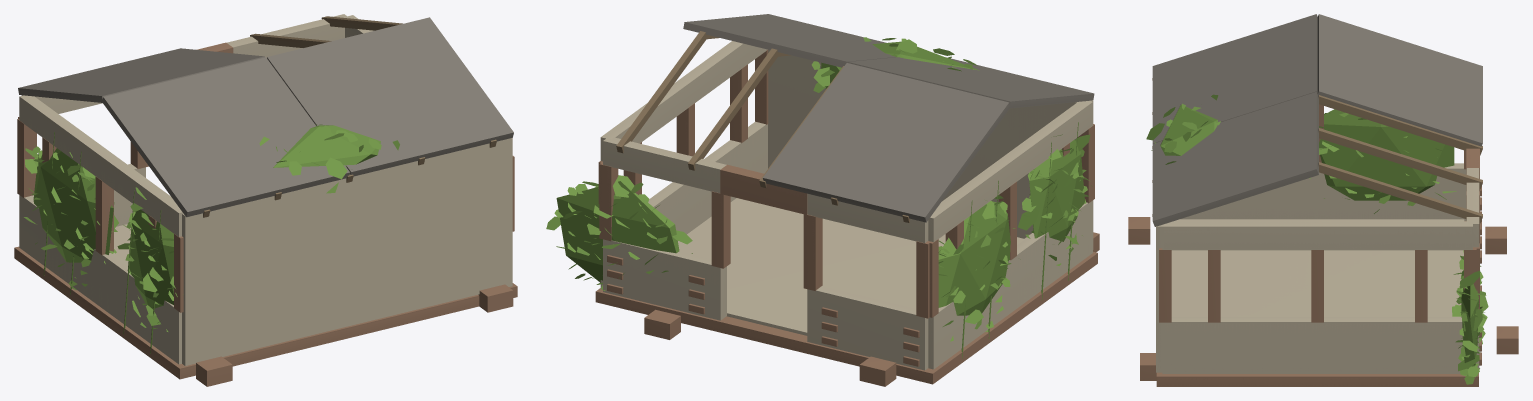
Rendered from OvergrownHouse.glb.
3 renders of one model, left to right at view 1: azimuth 30°, elevation 25°; view 2: azimuth 150°, elevation 25°; view 3: azimuth 270°, elevation 25°, orthographic. The views are drawn at different scales.
Parts seen in each view (by area): view 1: LOD1_EnvPlaster, LOD0_EnvRoof, LOD0_EnvPlaster, LOD1_EnvRoof, LOD2_EnvIvy, LOD0_EnvBrick, LOD1_EnvBrick, LOD0_EnvIvy, LOD1_EnvIvy, LOD0_EnvBark, LOD1_EnvBark; view 2: LOD0_EnvPlaster, LOD1_EnvPlaster, LOD0_EnvRoof, LOD1_EnvRoof, LOD0_EnvBrick, LOD2_EnvIvy, LOD1_EnvBrick, LOD0_EnvIvy, LOD1_EnvIvy, LOD0_EnvBark, LOD1_EnvBark; view 3: LOD0_EnvPlaster, LOD1_EnvPlaster, LOD1_EnvRoof, LOD0_EnvRoof, LOD0_EnvBrick, LOD2_EnvIvy, LOD1_EnvBrick, LOD0_EnvBark, LOD1_EnvBark, LOD1_EnvIvy, LOD0_EnvIvy.
Part boxes in pixels (x1,y1,x2,y2): LOD1_EnvPlaster: (19, 14, 512, 365); LOD0_EnvRoof: (18, 18, 513, 216); LOD0_EnvPlaster: (20, 14, 511, 364); LOD1_EnvRoof: (18, 17, 513, 217); LOD2_EnvIvy: (33, 125, 380, 308); LOD0_EnvBrick: (15, 43, 516, 385); LOD1_EnvBrick: (14, 42, 517, 386); LOD0_EnvIvy: (28, 124, 397, 353); LOD1_EnvIvy: (24, 130, 399, 325); LOD0_EnvBark: (203, 16, 496, 217); LOD1_EnvBark: (203, 16, 496, 217); LOD0_EnvPlaster: (601, 41, 1092, 368); LOD1_EnvPlaster: (600, 41, 1093, 370); LOD0_EnvRoof: (684, 14, 1093, 221); LOD1_EnvRoof: (683, 14, 1094, 222); LOD0_EnvBrick: (596, 52, 1099, 385); LOD2_EnvIvy: (556, 41, 1084, 315); LOD1_EnvBrick: (595, 50, 1099, 386); LOD0_EnvIvy: (549, 38, 1092, 358); LOD1_EnvIvy: (546, 37, 1090, 341); LOD0_EnvBark: (616, 31, 909, 222); LOD1_EnvBark: (616, 31, 909, 222); LOD0_EnvPlaster: (1157, 164, 1478, 372); LOD1_EnvPlaster: (1156, 163, 1479, 373); LOD1_EnvRoof: (1152, 14, 1482, 226); LOD0_EnvRoof: (1153, 14, 1482, 226); LOD0_EnvBrick: (1129, 104, 1517, 385); LOD2_EnvIvy: (1160, 104, 1478, 368); LOD1_EnvBrick: (1128, 104, 1518, 386); LOD0_EnvBark: (1318, 95, 1482, 222); LOD1_EnvBark: (1152, 78, 1482, 223); LOD1_EnvIvy: (1146, 94, 1488, 371); LOD0_EnvIvy: (1154, 107, 1484, 384).
Size of the model in its own units: 7.84 by 4.13 by 6.78.
